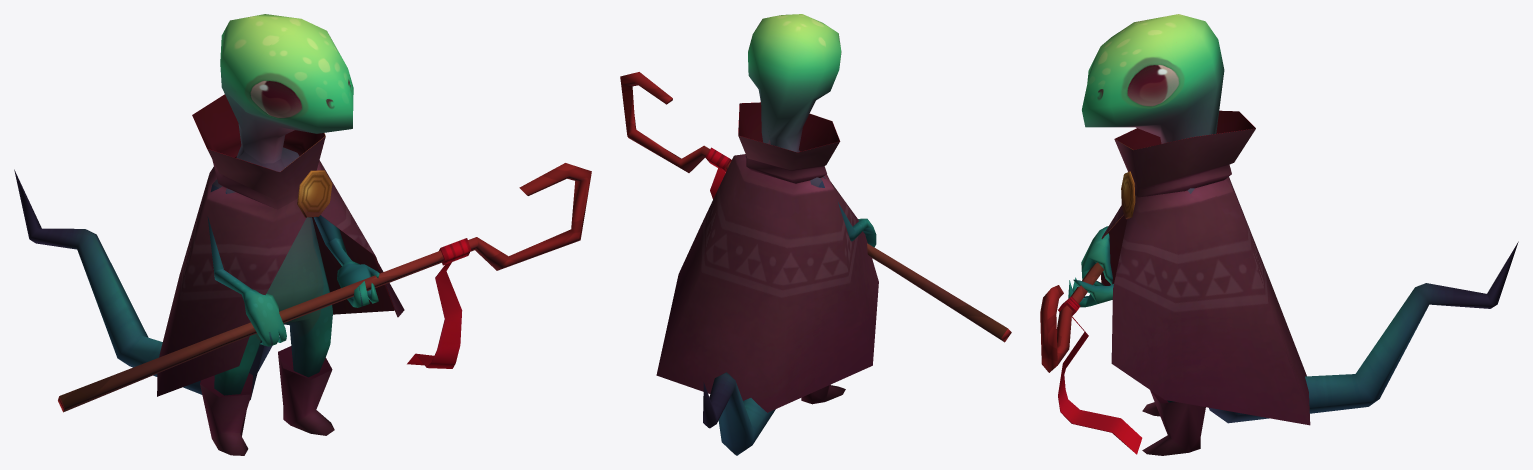
Rendered from lizard_mage.fbx.
The picture shows the model from 3 angles, left to right: view 1: azimuth 30°, elevation 25°; view 2: azimuth 150°, elevation 25°; view 3: azimuth 270°, elevation 25°; orthographic projection. The views are drawn at different scales.
Parts seen in each view (by area): view 1: GLTF_created_1, GLTF_created_0, GLTF_created_2, LizPosed.003_32; view 2: GLTF_created_0, GLTF_created_1, GLTF_created_2; view 3: GLTF_created_0, GLTF_created_1, GLTF_created_2, LizPosed.003_32.
Boxes of the visible parts, x1,y1,x2,y2 form: GLTF_created_1: (14,14,379,455); GLTF_created_0: (157,94,404,396); GLTF_created_2: (58,163,591,412); LizPosed.003_32: (297,170,332,217); GLTF_created_0: (656,102,878,412); GLTF_created_1: (703,14,876,455); GLTF_created_2: (620,72,1011,342); GLTF_created_0: (1101,110,1310,425); GLTF_created_1: (1068,14,1518,455); GLTF_created_2: (1040,262,1142,454); LizPosed.003_32: (1121,171,1135,219).
Size of the model in its own units: 23.9 by 19.58 by 20.71.
Materials: 1 (1 with a texture image).
